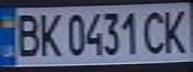0: (63, 10, 87, 57)
1: (118, 8, 142, 56)
3: (103, 9, 124, 56)
4: (84, 9, 106, 56)
B: (9, 10, 42, 57)
C: (139, 7, 172, 55)
K: (157, 6, 193, 55), (33, 9, 63, 58)
